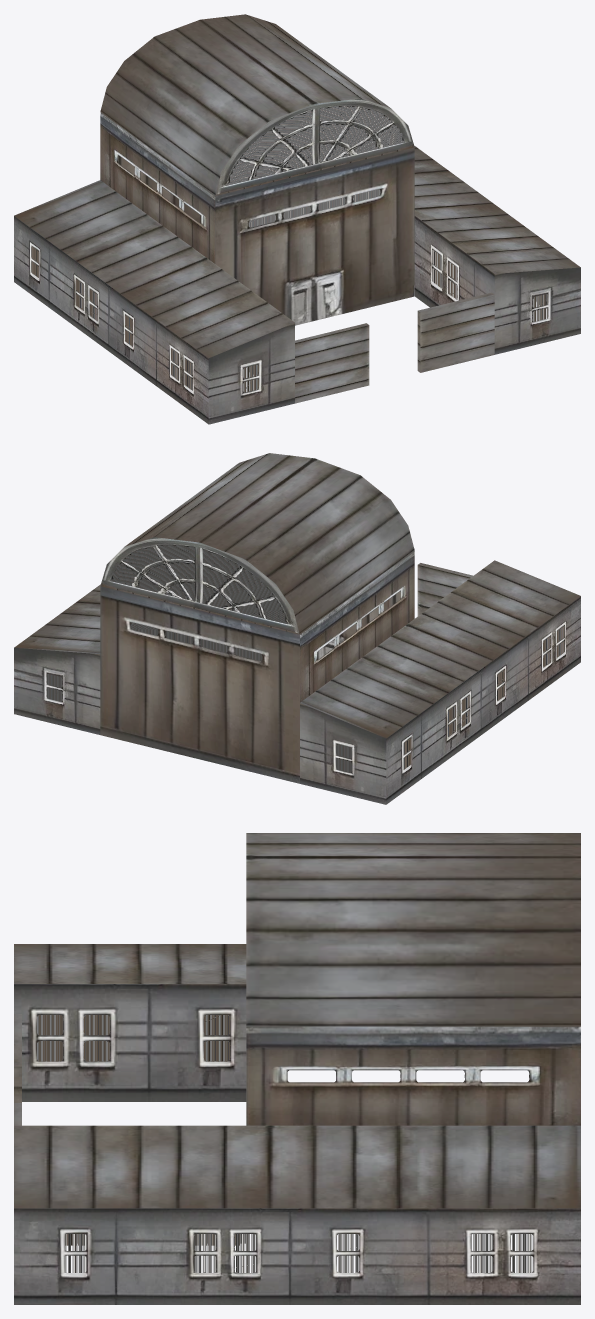
File: meethall_hdtex.glb
3 views of the same model, one above another, from view 1: azimuth 30°, elevation 25°; view 2: azimuth 150°, elevation 25°; view 3: azimuth 270°, elevation 25° (orthographic). The views are drawn at different scales.
Parts seen in each view (by area): view 1: Box01, LitWin_MeetingHall; view 2: Box01, LitWin_MeetingHall; view 3: Box01, LitWin_MeetingHall.
Part boxes in pixels (box(x1,y1,x2,y2)): Box01: box(14, 14, 580, 424); LitWin_MeetingHall: box(31, 105, 548, 392); Box01: box(14, 453, 580, 804); LitWin_MeetingHall: box(46, 544, 564, 772); Box01: box(14, 833, 580, 1304); LitWin_MeetingHall: box(37, 1015, 532, 1272).
Size of the model in its own units: 23.1 by 12.87 by 20.94.
Materials: 1 (1 with a texture image).
